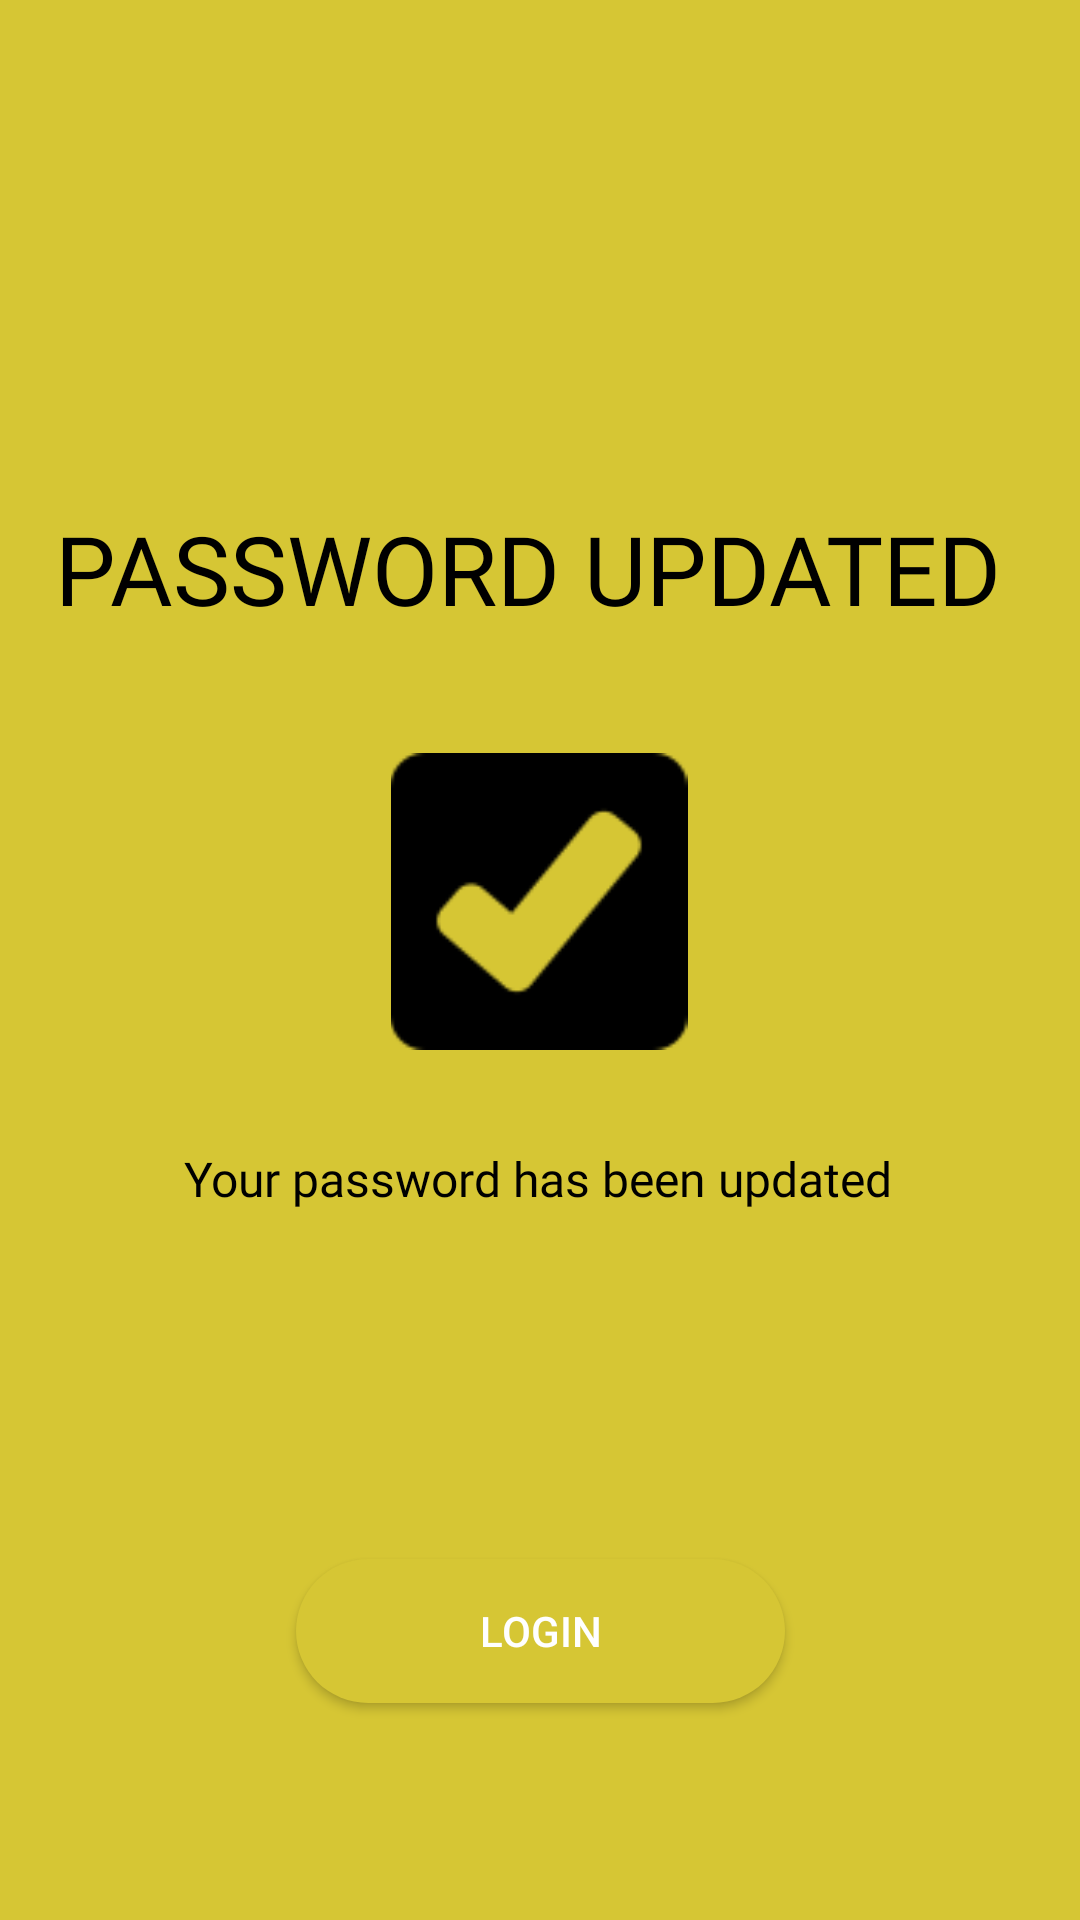

Named icons in this screenshot (1080px x 1920px) and their centers, point (x, y):
tickmark: point (539, 901)
